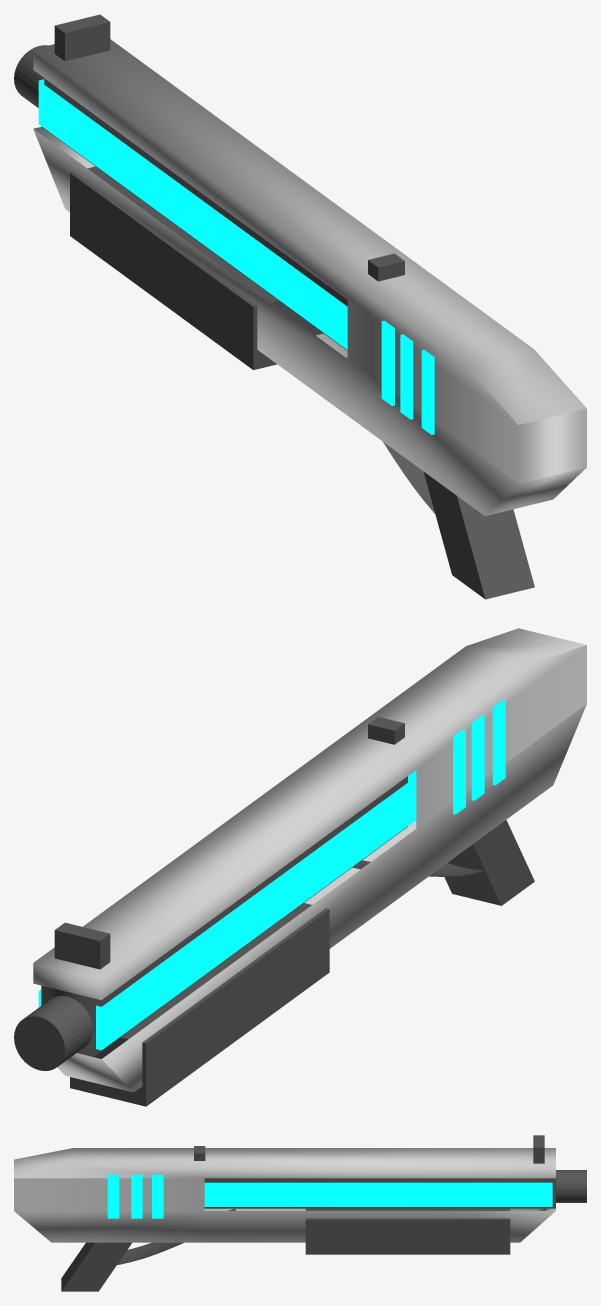
The model's file is laser_weapon.glb.
3 views of the same model, one above another, from view 1: azimuth 30°, elevation 25°; view 2: azimuth 150°, elevation 25°; view 3: azimuth 270°, elevation 25° (orthographic). The views are drawn at different scales.
Visible parts, largest first — view 1: Cube.001, Cube.002, Cube.003, Cube, Cube.007, Cube.009, Cylinder, SurfPatch; view 2: Cube.001, Cube.002, Cube.003, Cube, Cylinder, Cube.007, Cube.009; view 3: Cube.001, Cube.002, Cube.003, Cube, Cube.007, Cylinder, SurfPatch, Cube.009.
Boxes of the visible parts, x1=… form: Cube.001: x1=33, y1=39, x2=586, y2=515; Cube.002: x1=41, y1=76, x2=347, y2=369; Cube.003: x1=38, y1=79, x2=347, y2=349; Cube: x1=424, y1=472, x2=534, y2=599; Cube.007: x1=381, y1=320, x2=434, y2=434; Cube.009: x1=54, y1=14, x2=404, y2=281; Cylinder: x1=14, y1=45, x2=48, y2=107; SurfPatch: x1=346, y1=357, x2=434, y2=513; Cube.001: x1=33, y1=628, x2=586, y2=1092; Cube.002: x1=41, y1=776, x2=407, y2=1106; Cube.003: x1=38, y1=777, x2=416, y2=1050; Cube: x1=444, y1=820, x2=534, y2=905; Cylinder: x1=14, y1=996, x2=92, y2=1070; Cube.007: x1=408, y1=700, x2=505, y2=814; Cube.009: x1=54, y1=717, x2=404, y2=969; Cube.001: x1=14, y1=1148, x2=555, y2=1242; Cube.002: x1=204, y1=1178, x2=555, y2=1254; Cube.003: x1=204, y1=1182, x2=552, y2=1206; Cube: x1=61, y1=1242, x2=131, y2=1291; Cube.007: x1=107, y1=1174, x2=163, y2=1218; Cylinder: x1=556, y1=1170, x2=586, y2=1202; SurfPatch: x1=117, y1=1208, x2=235, y2=1264; Cube.009: x1=194, y1=1135, x2=544, y2=1163.
Size of the model in its own units: 1.16 by 3.73 by 13.54.
